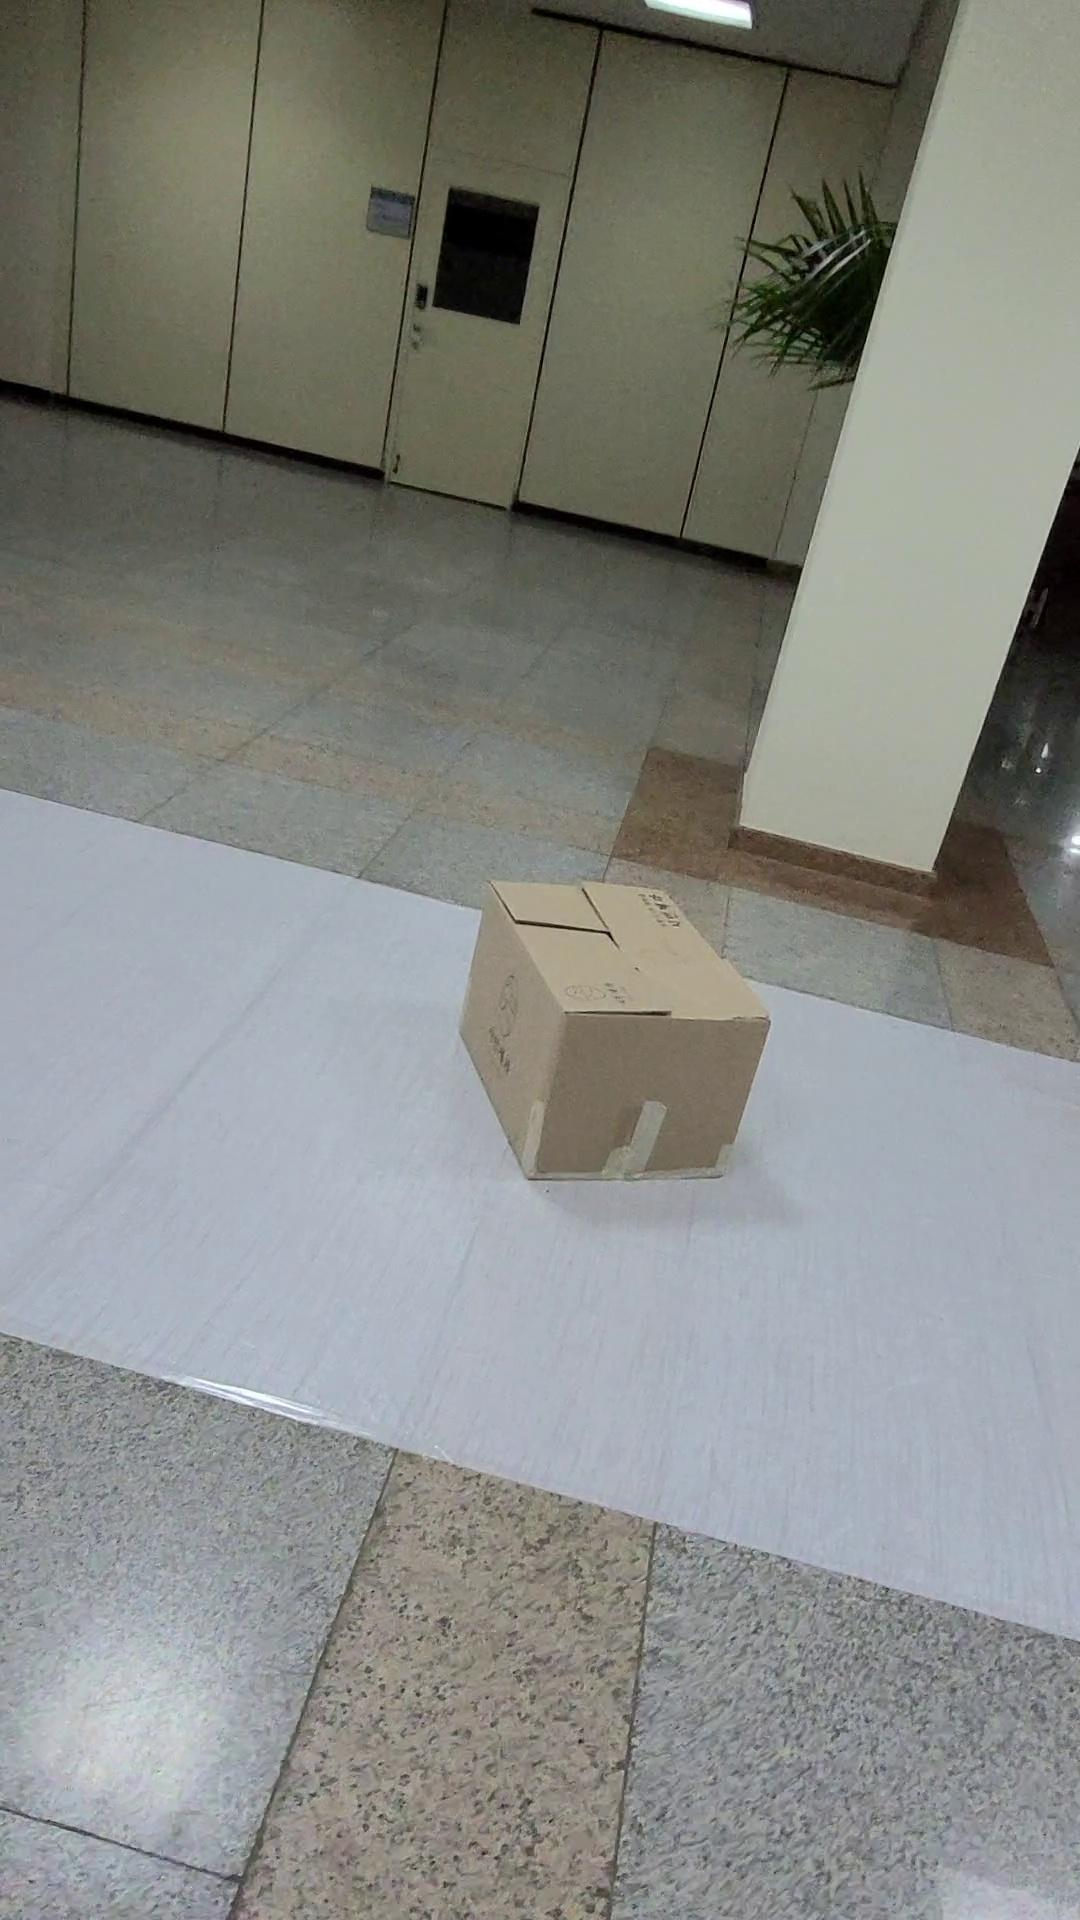Box: (411, 855, 810, 1236)
